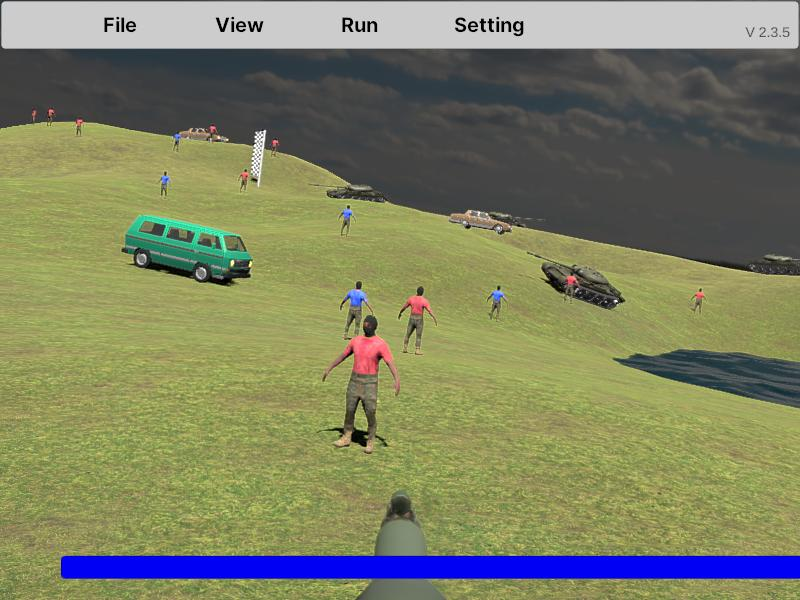Human: (323, 315, 400, 454), (398, 286, 438, 355), (340, 280, 374, 343)
Tank: (526, 252, 625, 310), (309, 182, 388, 205), (747, 254, 800, 276)
car: (122, 215, 253, 285), (449, 210, 512, 236)
